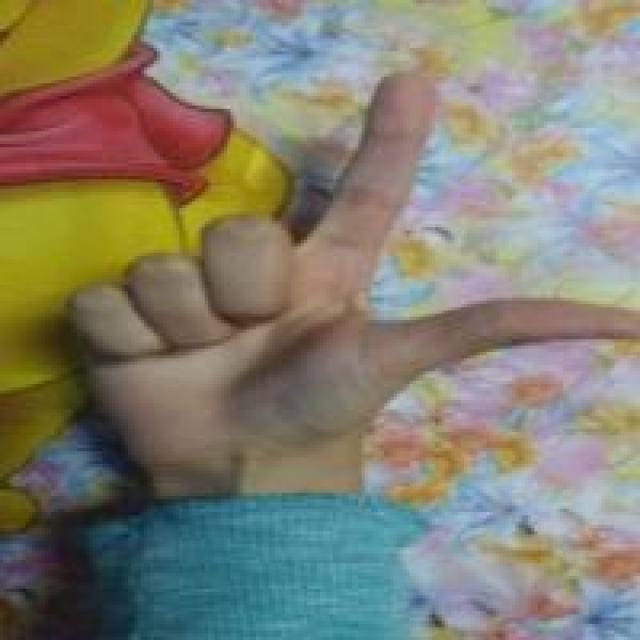L: (61, 62, 640, 453)
